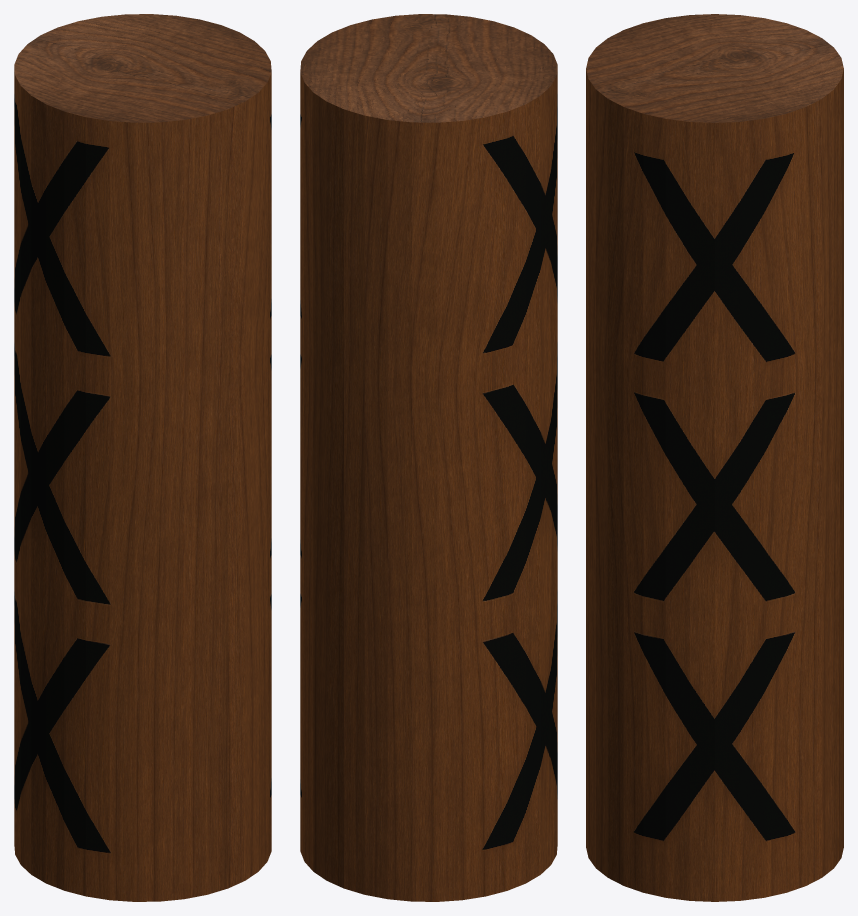
File: Yut_Front(X).fbx
The picture shows the model from 3 angles, left to right: view 1: azimuth 30°, elevation 25°; view 2: azimuth 150°, elevation 25°; view 3: azimuth 270°, elevation 25°; orthographic projection.
Visible parts, largest first — view 1: Cylinder; view 2: Cylinder; view 3: Cylinder.
Boxes of the visible parts, x1,y1,x2,y2 form: Cylinder: (14,14,271,901); Cylinder: (300,14,557,901); Cylinder: (586,14,843,901).
Bounding box in the file's own units: 3 × 10 × 3.
